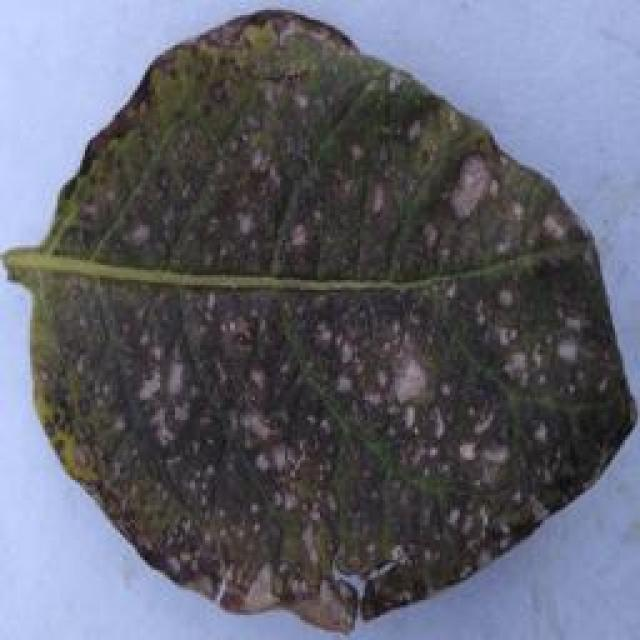Potato_Early_Blight: (6, 7, 634, 631)
